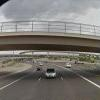Bridge: (2, 15, 95, 63)
